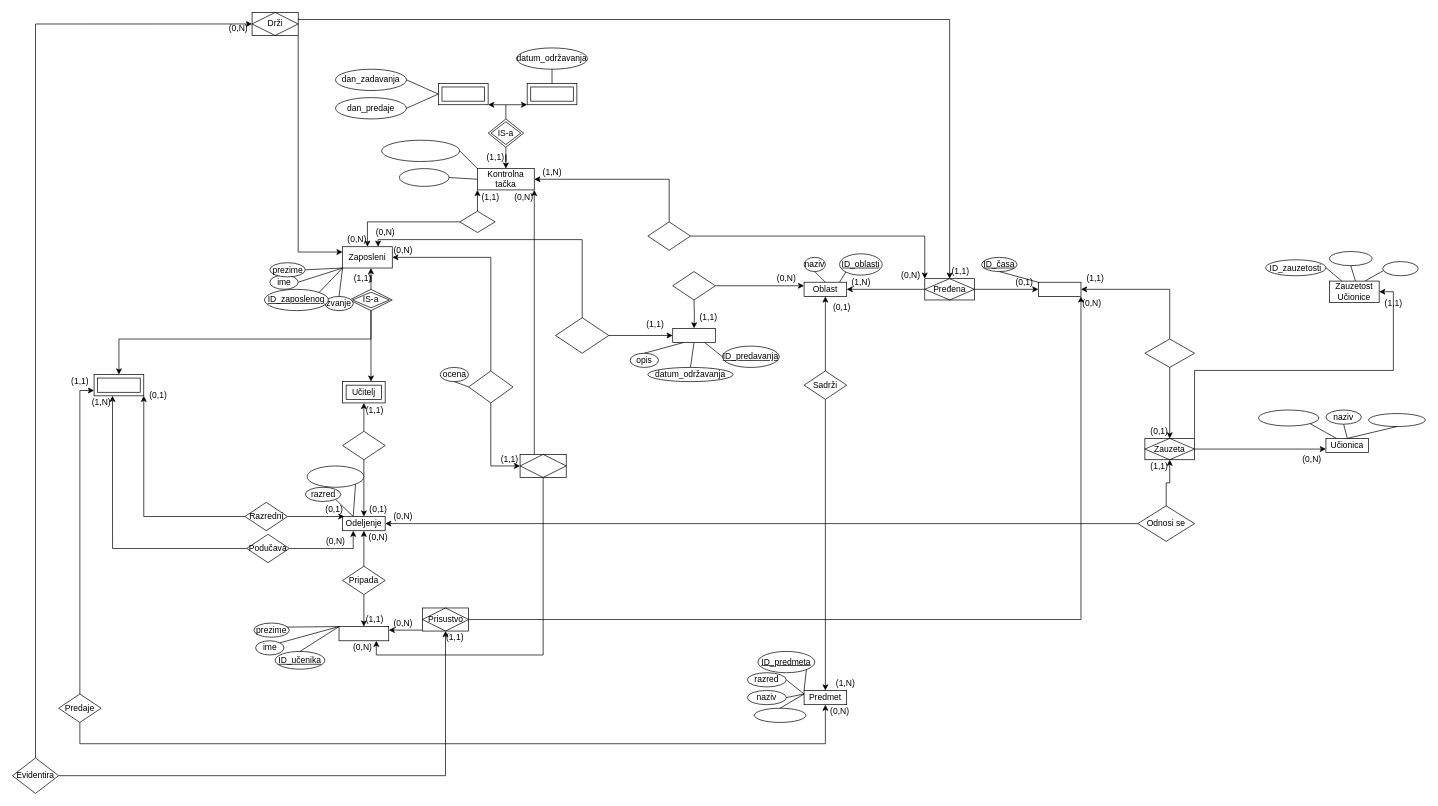
Image size: 1438x806. Some labels were removed from this diagram. The centre of each missing label's shape, as x and y in pixels:
"broj_oblasti" belongs at point 780,715.
"broj_učenika" belongs at point 1396,420.
"datum" belongs at point 1400,268.
"Domaći" belongs at point 463,94.
"ID_kontrolne_tačke" belongs at point 420,151.
"ID_odeljenja" belongs at point 335,476.
"ID_učionice" belongs at point 1288,417.
"Kontrolni" belongs at point 551,94.
"Nastavnik" belongs at point 118,385.
"Održava" belongs at point 668,235.
"Planira" belongs at point 582,335.
"početak" belongs at point 1350,258.
"Predavanje" belongs at point 693,335.
"Pregleda" belongs at point 490,386.
"Proverava" belongs at point 1169,352.
"Radi" belongs at point 542,465.
"Učenik" belongs at point 363,633.
"Uči" belongs at point 363,445.
"Vezana" belongs at point 693,285.
"Zadaje" belongs at point 477,222.
"zadatak" belongs at point 424,177.
"Čas" belongs at point 1059,289.
